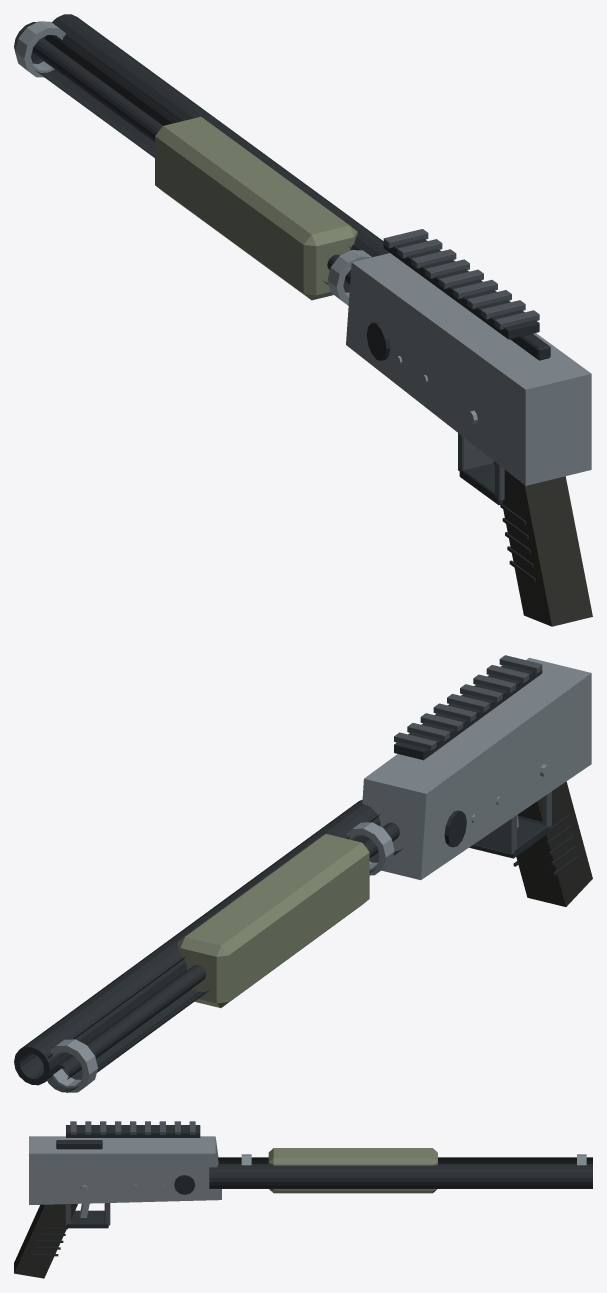
Rendered from weapon_elk12.glb.
The picture shows the model from 3 angles, top to bottom: view 1: azimuth 30°, elevation 25°; view 2: azimuth 150°, elevation 25°; view 3: azimuth 270°, elevation 25°; orthographic projection. The views are drawn at different scales.
Visible parts, largest first — view 1: Geometry_weapon_elk12; view 2: Geometry_weapon_elk12; view 3: Geometry_weapon_elk12.
Boxes of the visible parts, left/top/right/bottom form: Geometry_weapon_elk12: left=14, top=14, right=592, bottom=626; Geometry_weapon_elk12: left=14, top=655, right=592, bottom=1092; Geometry_weapon_elk12: left=14, top=1121, right=592, bottom=1278.
Bounding box in the file's own units: 0.087 × 0.262 × 0.936.
